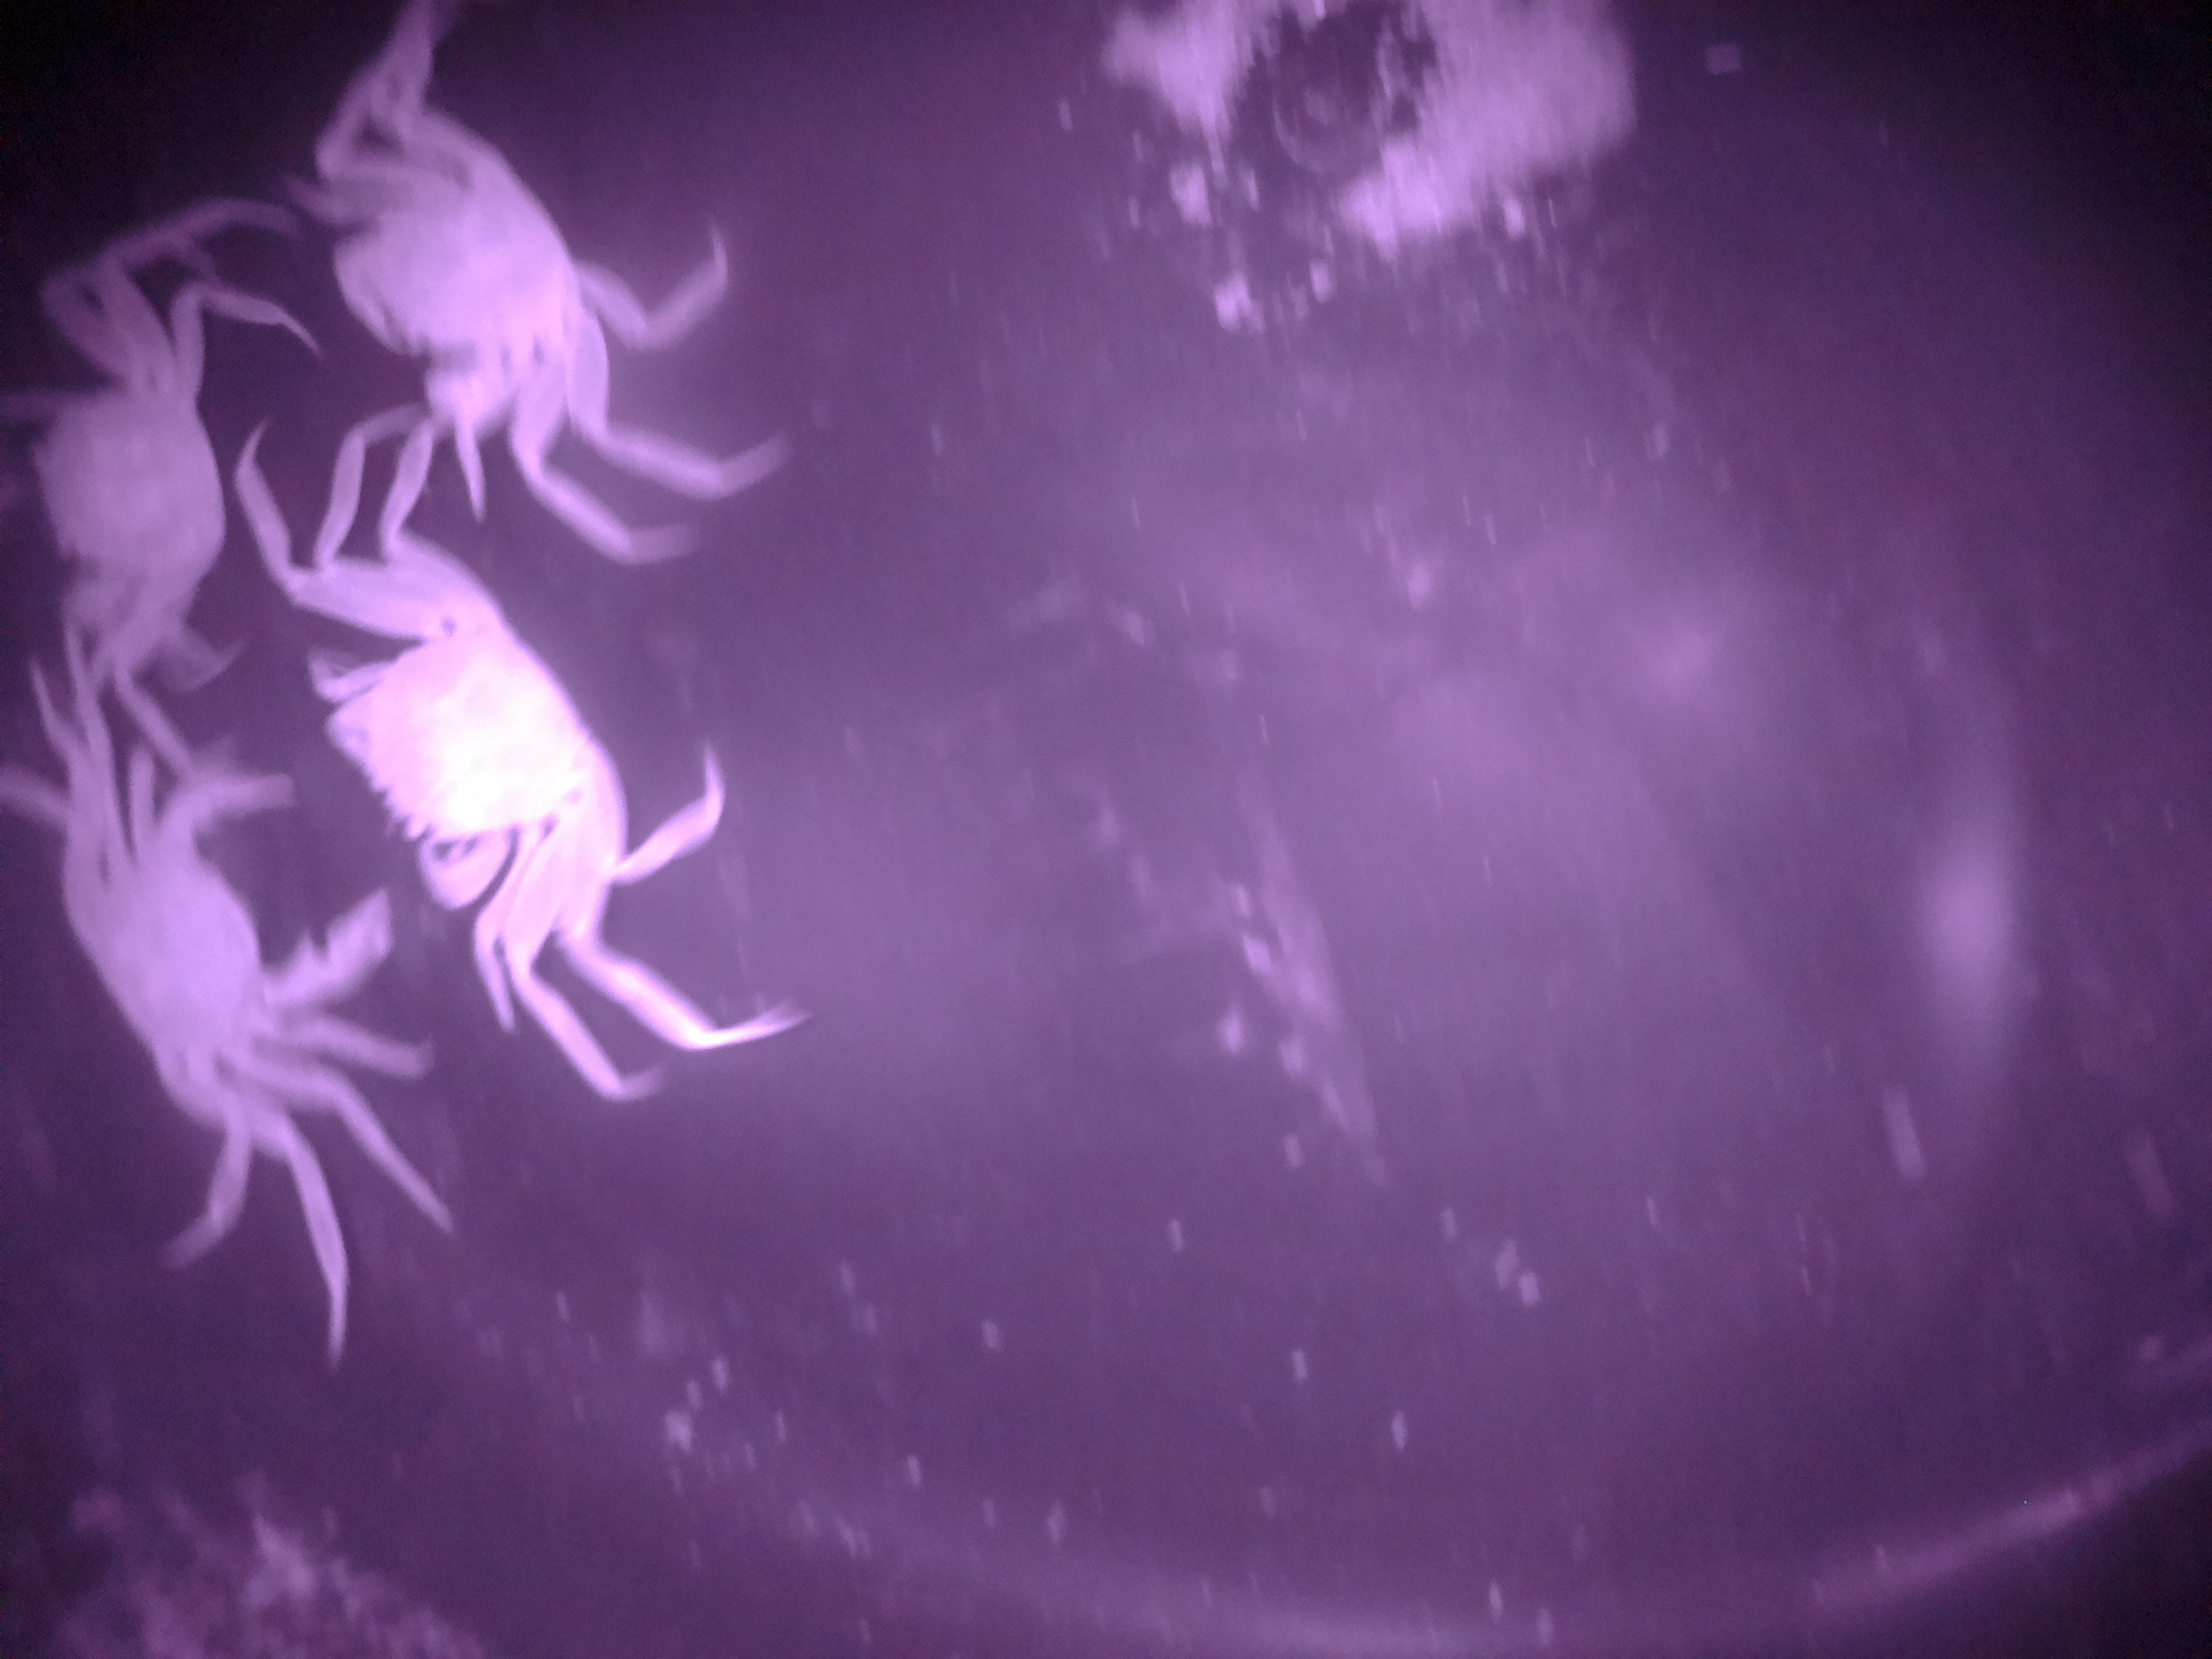Crab: (266, 16, 733, 495), (233, 450, 662, 943), (38, 727, 435, 1197)
